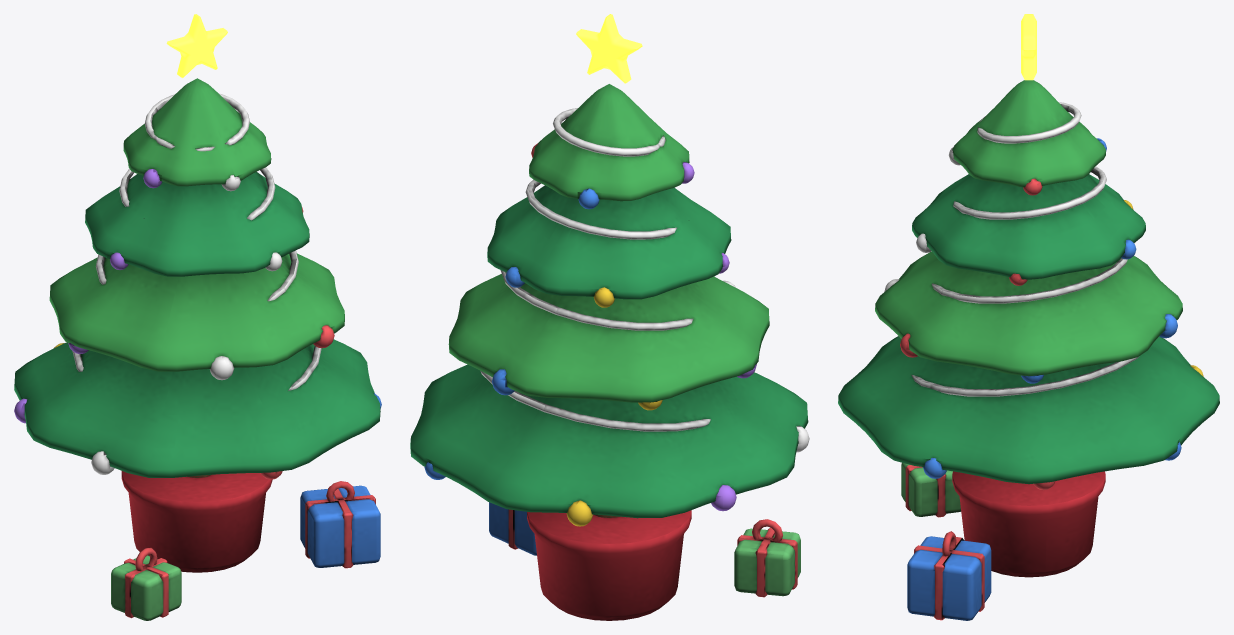
File: christmas_tree.glb
The picture shows the model from 3 angles, left to right: view 1: azimuth 30°, elevation 25°; view 2: azimuth 150°, elevation 25°; view 3: azimuth 270°, elevation 25°; orthographic projection. The views are drawn at different scales.
Parts seen in each view (by area): view 1: christmas_tree; view 2: christmas_tree; view 3: christmas_tree.
Part boxes in pixels (x1,y1,x2,y2): christmas_tree: (14, 14, 381, 620); christmas_tree: (410, 14, 809, 620); christmas_tree: (838, 14, 1219, 620).
Size of the model in its own units: 1.2 by 1.87 by 1.2.
14 materials, 13 textured.
